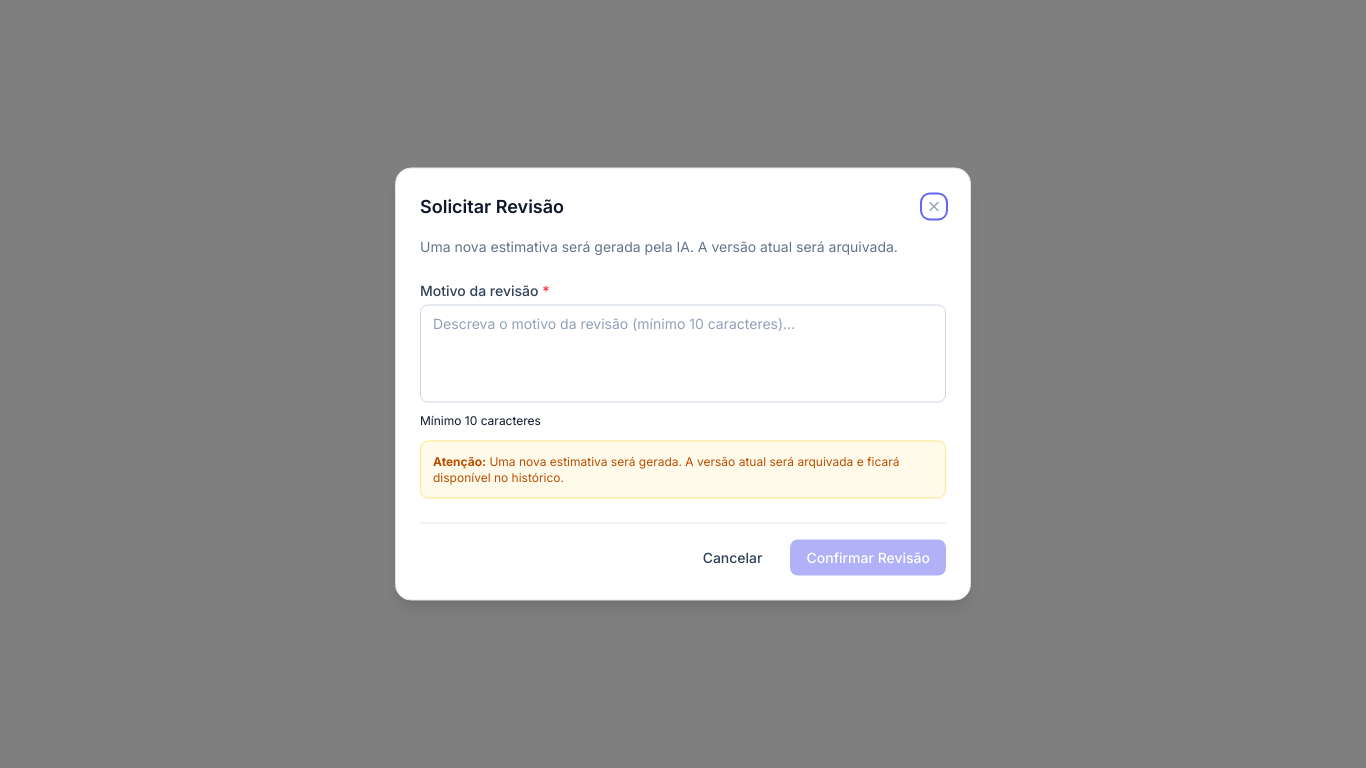
Test: ReviseModal › disables confirm button when reason < 10 chars
expect the button "Confirmar Revisão" is disabled: met, box x1=790 y1=540 x2=946 y2=576
// Type 5 chars — still disabled
In the text box: {"x": 683, "y": 354} x1=420 y1=304 x2=946 y2=402, type "short"
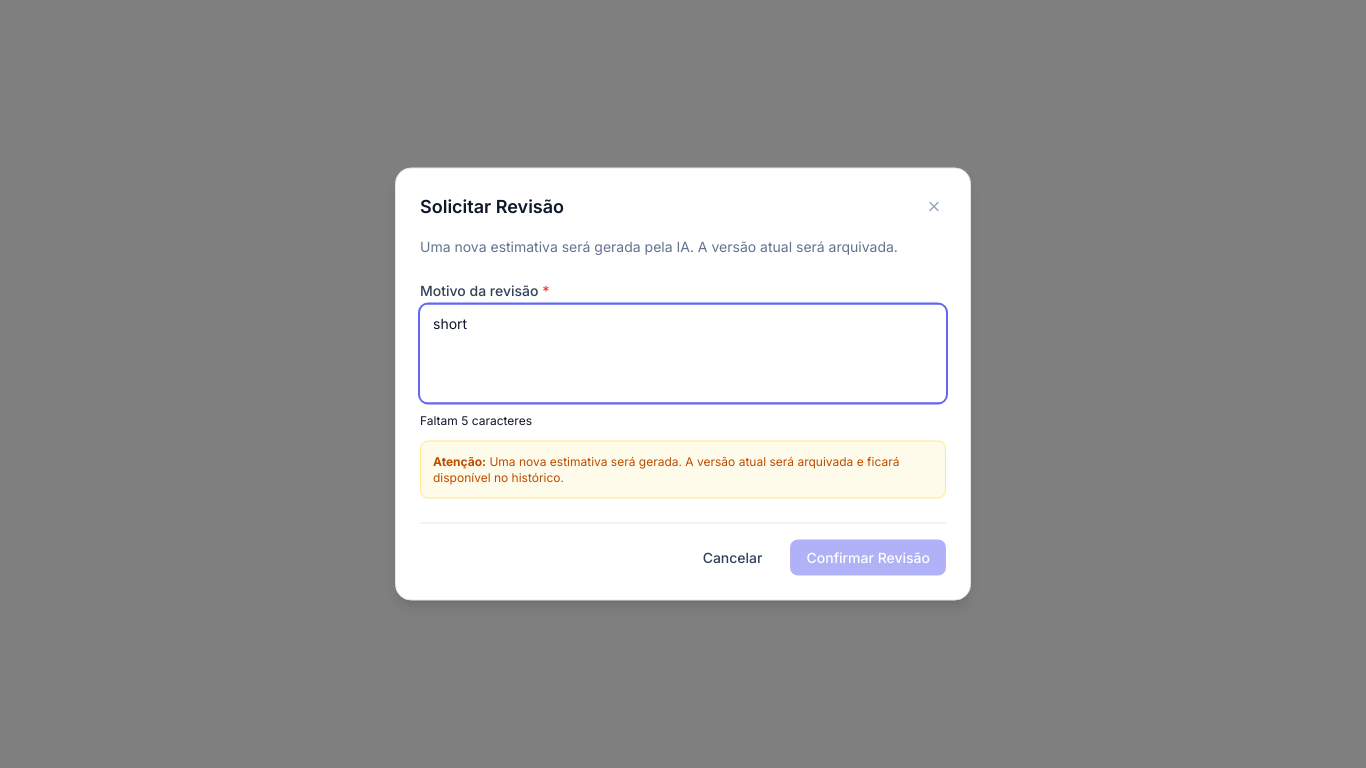
expect the button "Confirmar Revisão" is disabled: met, box x1=790 y1=540 x2=946 y2=576
// Type enough chars — enabled
Replace the text in the text box with "Motivo com mais de dez caracteres": {"x": 683, "y": 354} x1=420 y1=304 x2=946 y2=402
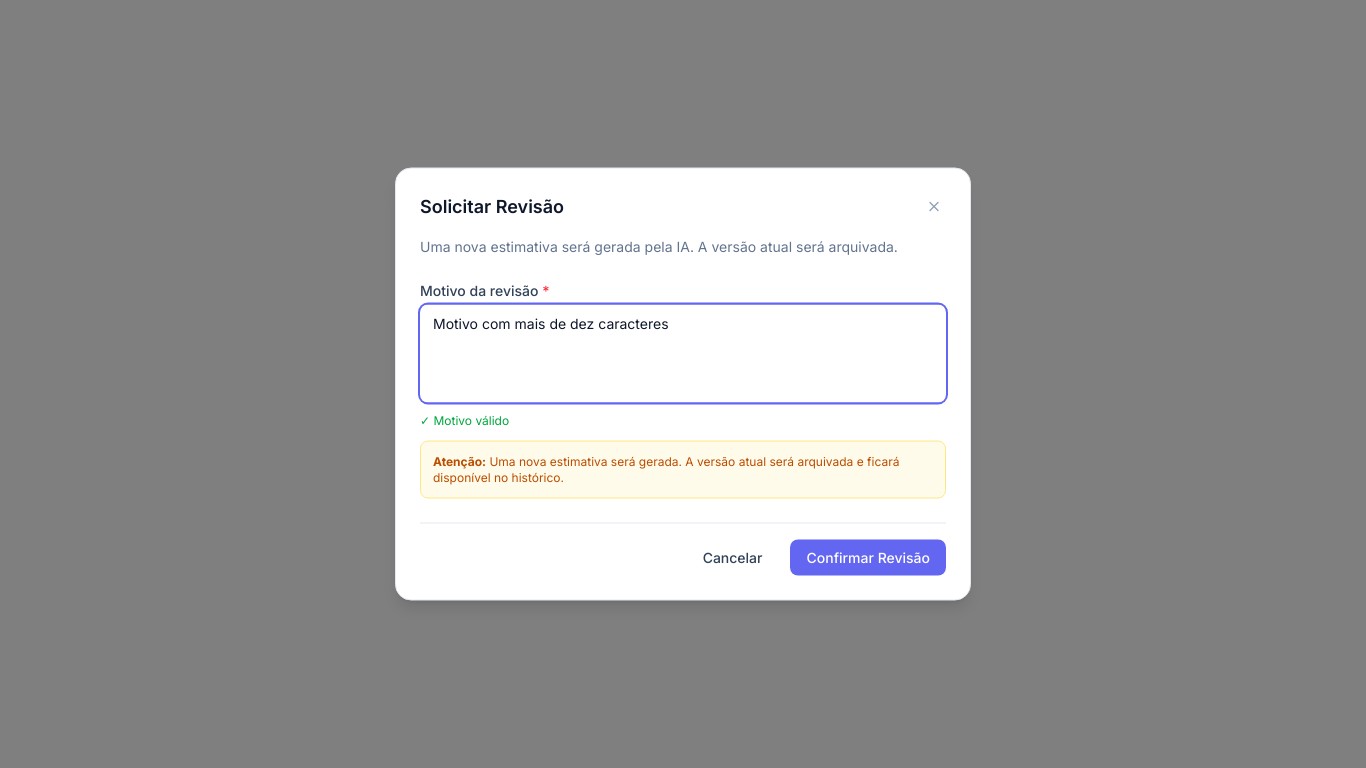
expect the button "Confirmar Revisão" is enabled: met, box x1=790 y1=540 x2=946 y2=576
